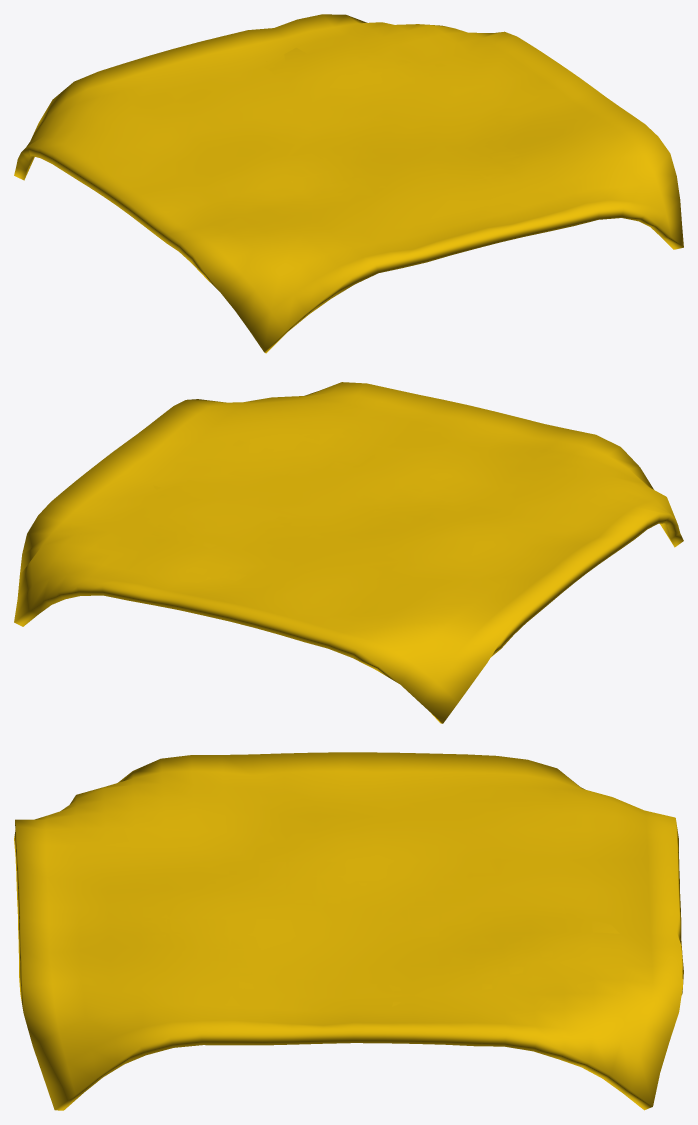
The model's file is cheese.glb.
3 views of the same model, one above another, from view 1: azimuth 30°, elevation 25°; view 2: azimuth 150°, elevation 25°; view 3: azimuth 270°, elevation 25° (orthographic). The views are drawn at different scales.
Visible parts, largest first — view 1: cheese; view 2: cheese; view 3: cheese.
Boxes of the visible parts, x1=… form: cheese: x1=14, y1=14, x2=683, y2=353; cheese: x1=14, y1=382, x2=683, y2=723; cheese: x1=14, y1=752, x2=683, y2=1110.
Size of the model in its own units: 0.5278 by 0.0854 by 0.5309.
